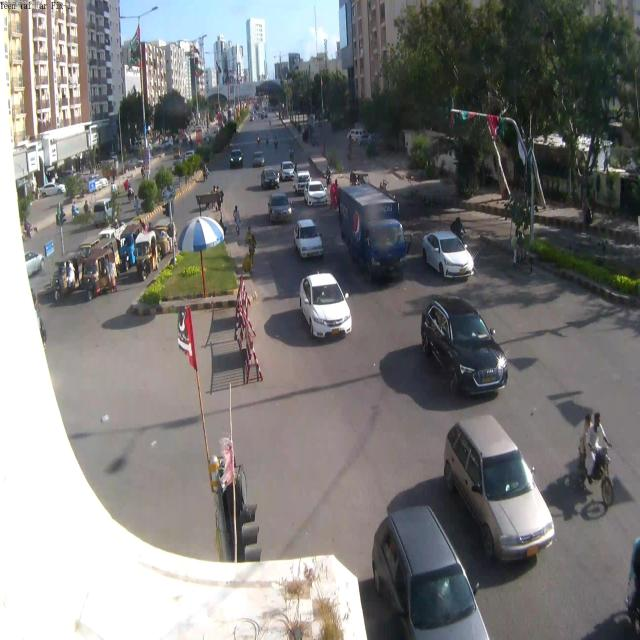car: (369, 499, 507, 640), (446, 416, 558, 565), (419, 295, 509, 395), (298, 272, 351, 341), (421, 230, 475, 280), (295, 220, 324, 260), (268, 193, 294, 223), (305, 180, 329, 207), (309, 156, 332, 181), (24, 250, 45, 276), (40, 184, 67, 198), (262, 168, 280, 188), (281, 160, 298, 180), (296, 169, 310, 190), (229, 151, 244, 168), (254, 154, 266, 168)
motorbike: (573, 433, 626, 511), (325, 172, 334, 189), (288, 153, 297, 164)
truck: (334, 181, 414, 287)
